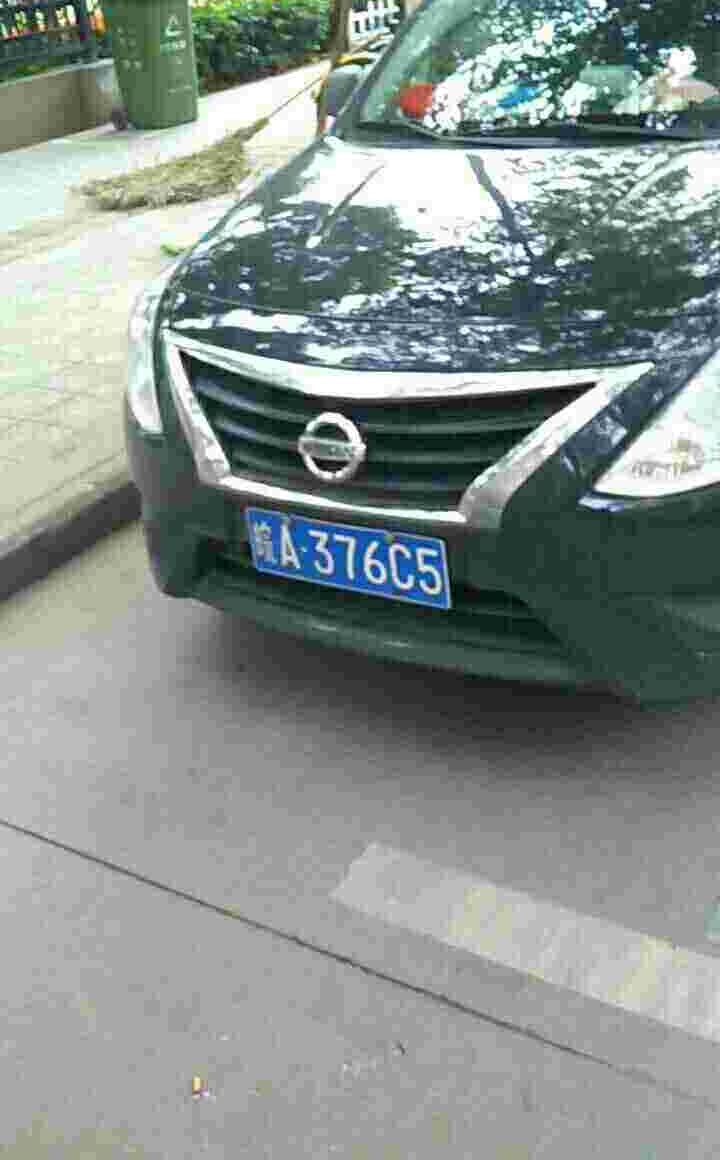plate: (238, 501, 457, 612)
